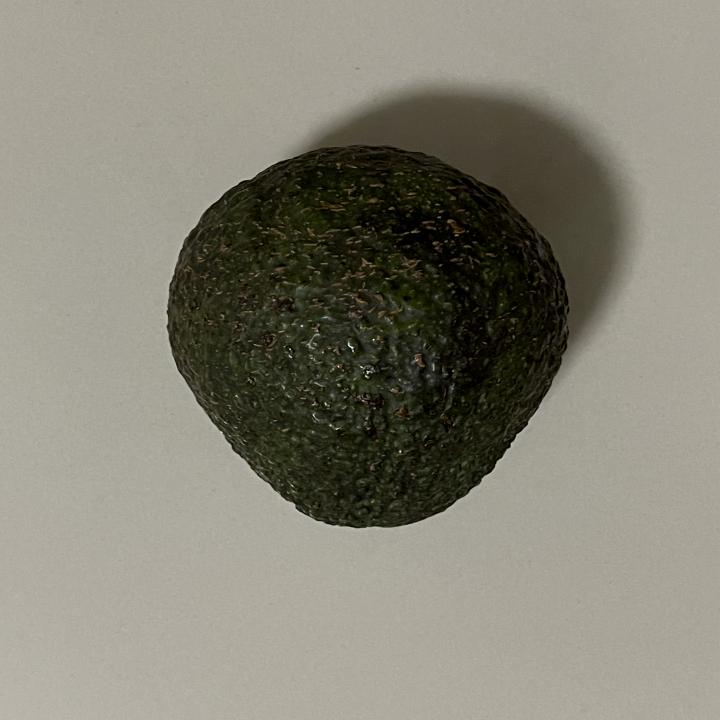Level1: (157, 136, 581, 543)
